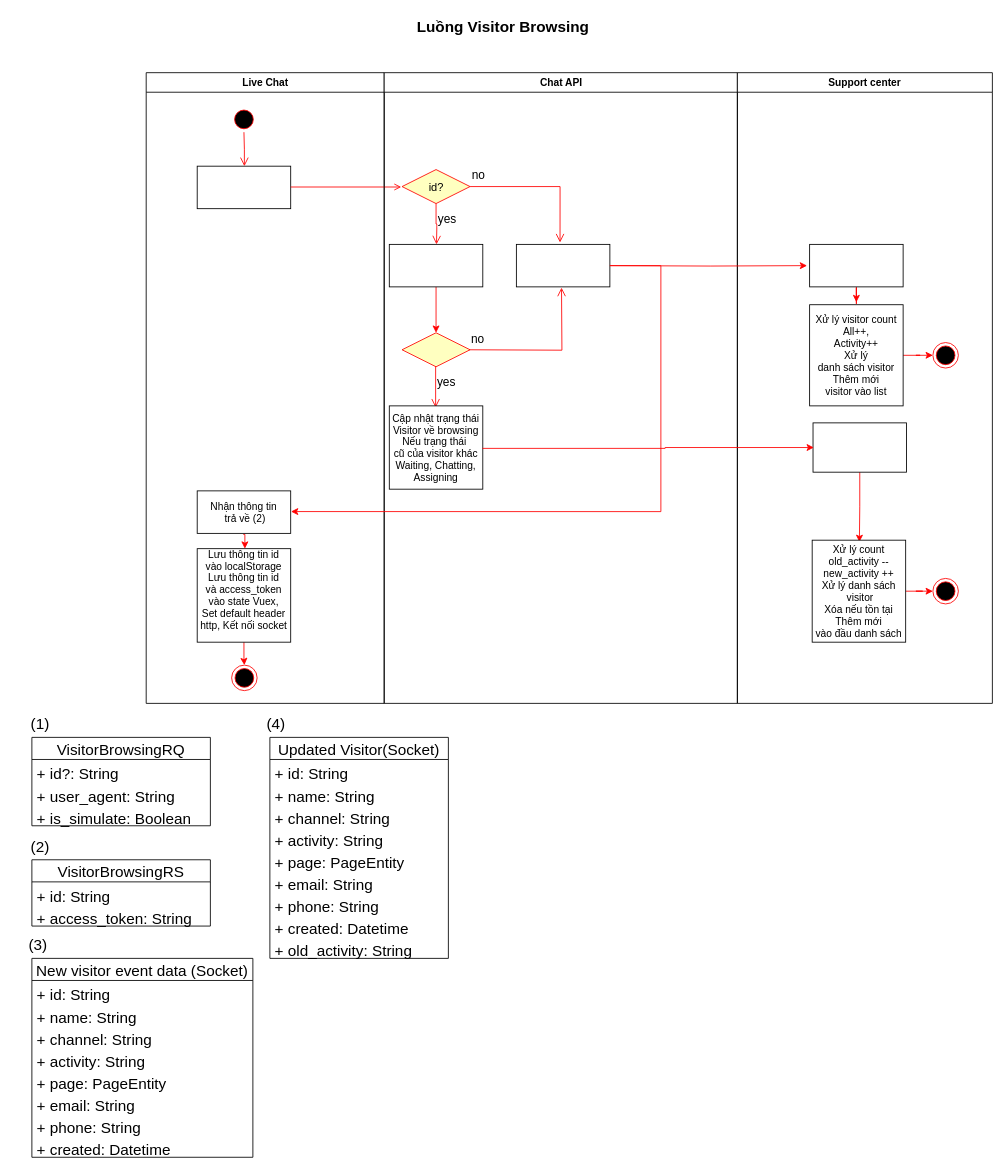
Some shapes in this 1007 by 1174 pixel diagram are drawn without their labels. Here are the shapes that lost their labels. From the top down, the centre of each, then its label:
At point (243, 187): "Gửi thông tin browsing (1)".
At point (435, 265): "Tìm visitor với id".
At point (563, 265): "Tạo mới visitor với tên tự động sinh, trạng thái browsing".
At point (856, 265): "Nhận sự kiện new visitor (3)".
At point (435, 349): "visitor?".
At point (859, 447): "Nhận sự kiện cập nhật visitor(4)".
